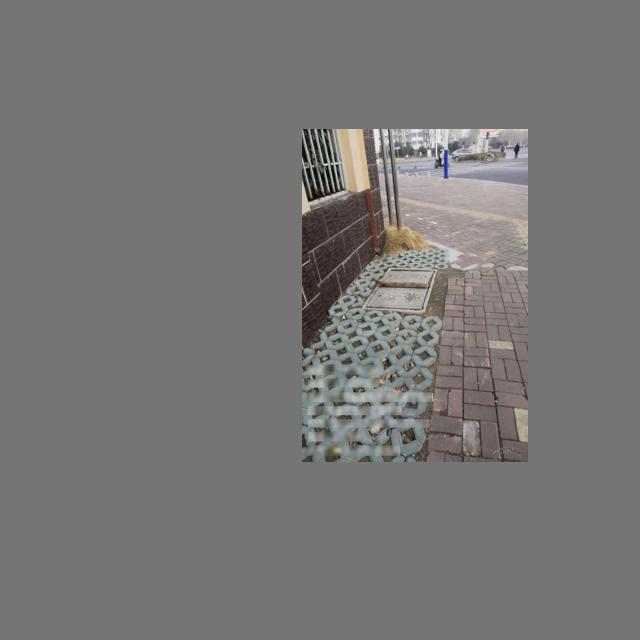uncovered: (371, 253, 440, 290)
